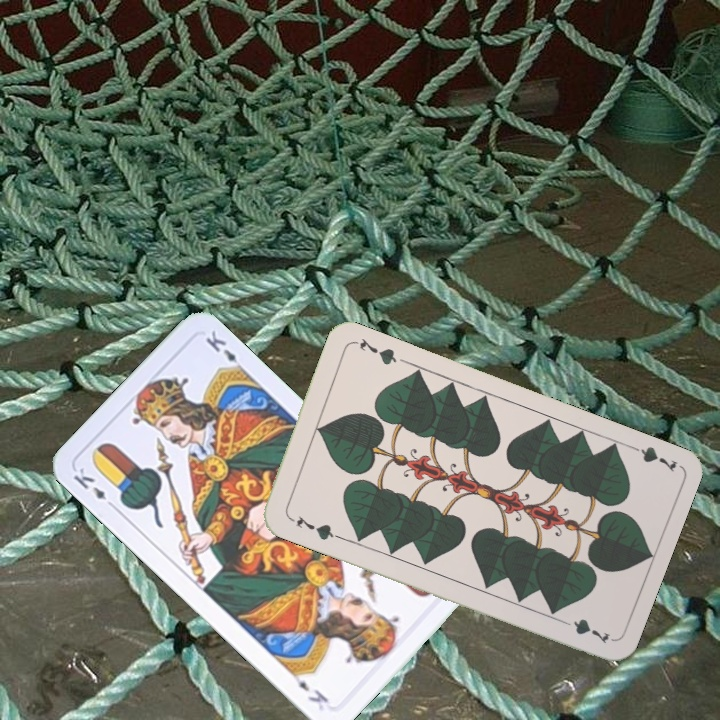EK: (69, 463, 119, 512)
G7: (622, 439, 680, 475), (292, 512, 341, 543)
